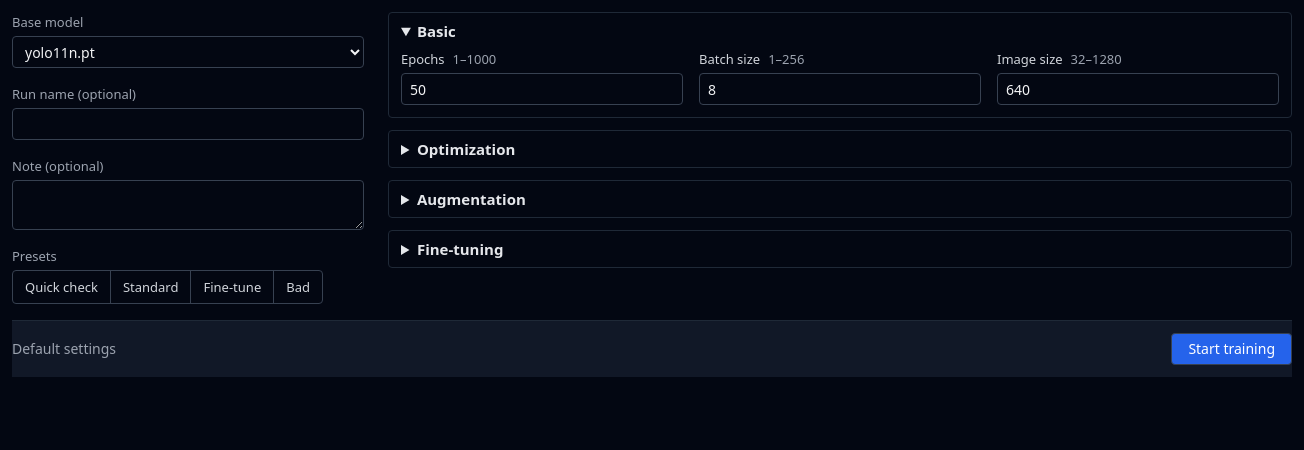
it: TrainConfigForm › opens the group with an invalid value and says how many settings need attention
Expected: the field labelled "Hue shift" is not shown
Click the button "Bad".
click(298, 287)  # box top-left (274, 271), bottom-right (322, 303)
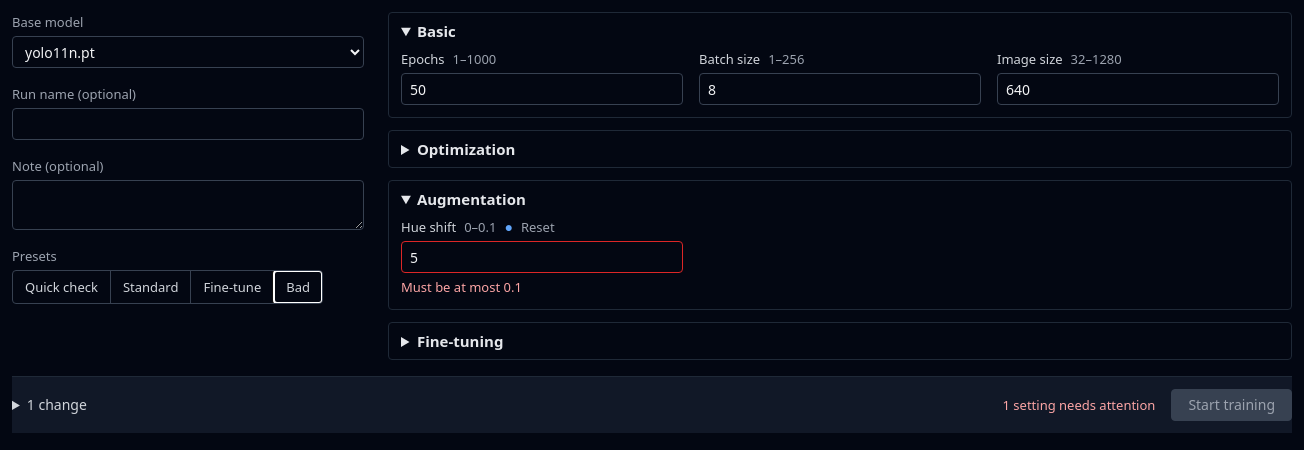
Expected: the number field labelled "Hue shift" is shown, top-left (401, 241), bottom-right (683, 273)
Expected: the text "1 setting needs attention" is shown, top-left (1002, 395), bottom-right (1155, 415)
Expected: the button "Start training" is disabled, top-left (1171, 389), bottom-right (1292, 421)
